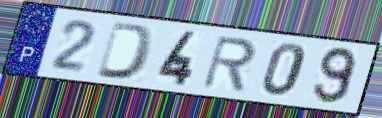0: (258, 41, 308, 99)
2: (47, 19, 101, 75)
4: (154, 29, 198, 88)
9: (312, 45, 360, 107)
D: (93, 19, 158, 82)
R: (200, 34, 259, 94)
